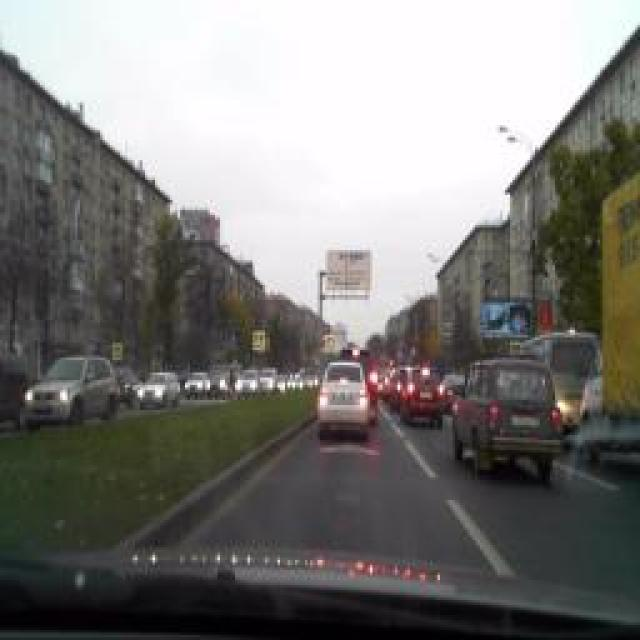sign: (509, 341, 521, 361), (254, 331, 264, 351), (325, 332, 335, 352), (112, 344, 122, 361)
